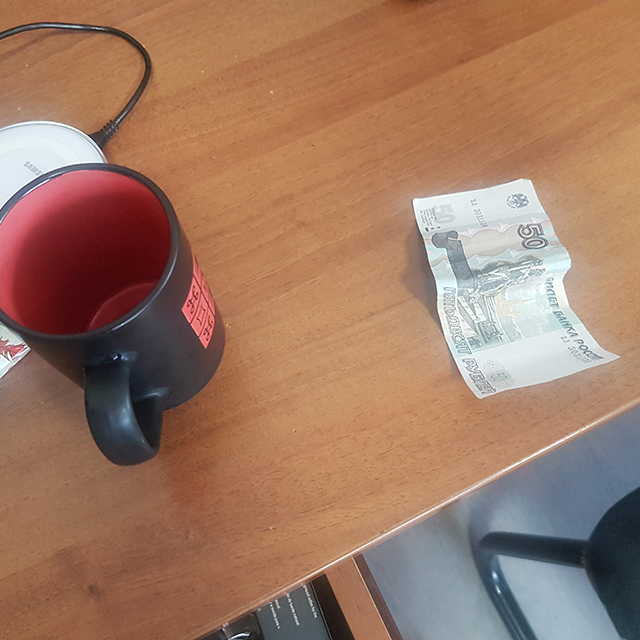banknotes: (412, 177, 624, 398)
